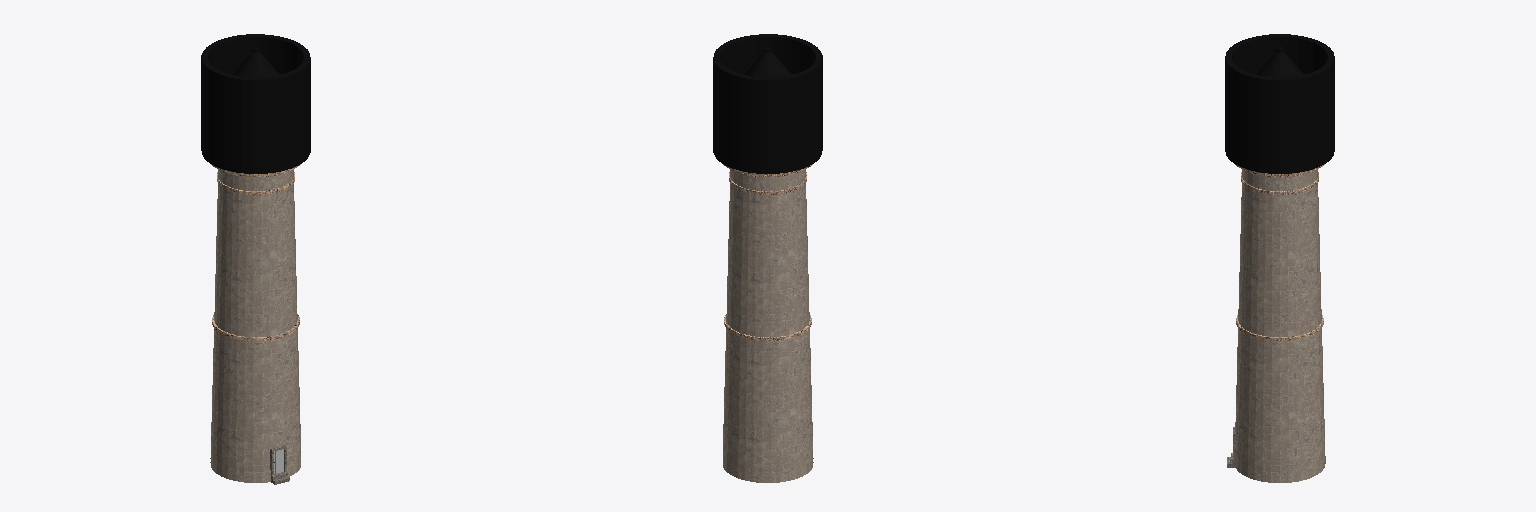
3 renders of one model, left to right at view 1: azimuth 30°, elevation 25°; view 2: azimuth 150°, elevation 25°; view 3: azimuth 270°, elevation 25°, orthographic.
Visible parts, largest first — view 1: башня_корпус, Circle.002, башня_корпус.001, Cone; view 2: башня_корпус, Circle.002, башня_корпус.001, Cone; view 3: башня_корпус, Circle.002, башня_корпус.001, Cone.
Boxes of the visible parts, x1=… form: башня_корпус: x1=210, y1=164, x2=300, y2=482; Circle.002: x1=201, y1=34, x2=310, y2=173; башня_корпус.001: x1=210, y1=176, x2=300, y2=478; Cone: x1=232, y1=47, x2=279, y2=77; башня_корпус: x1=723, y1=164, x2=813, y2=482; Circle.002: x1=713, y1=34, x2=822, y2=173; башня_корпус.001: x1=723, y1=176, x2=813, y2=478; Cone: x1=744, y1=47, x2=791, y2=77; башня_корпус: x1=1235, y1=164, x2=1325, y2=482; Circle.002: x1=1225, y1=34, x2=1334, y2=173; башня_корпус.001: x1=1235, y1=315, x2=1325, y2=478; Cone: x1=1256, y1=47, x2=1303, y2=77.
Size of the model in its own units: 3.46 by 14.49 by 3.46.
7 materials, 3 textured.